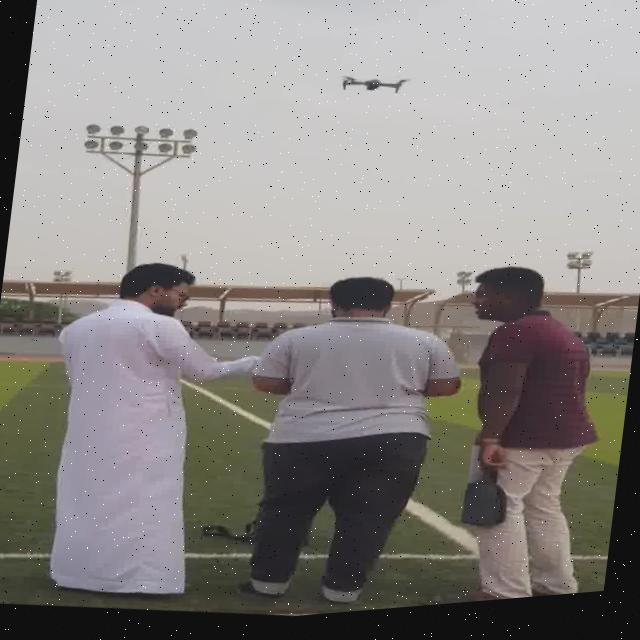drone: (328, 70, 414, 109)
